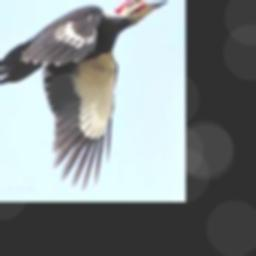Woodpecker: (0, 0, 169, 192)
